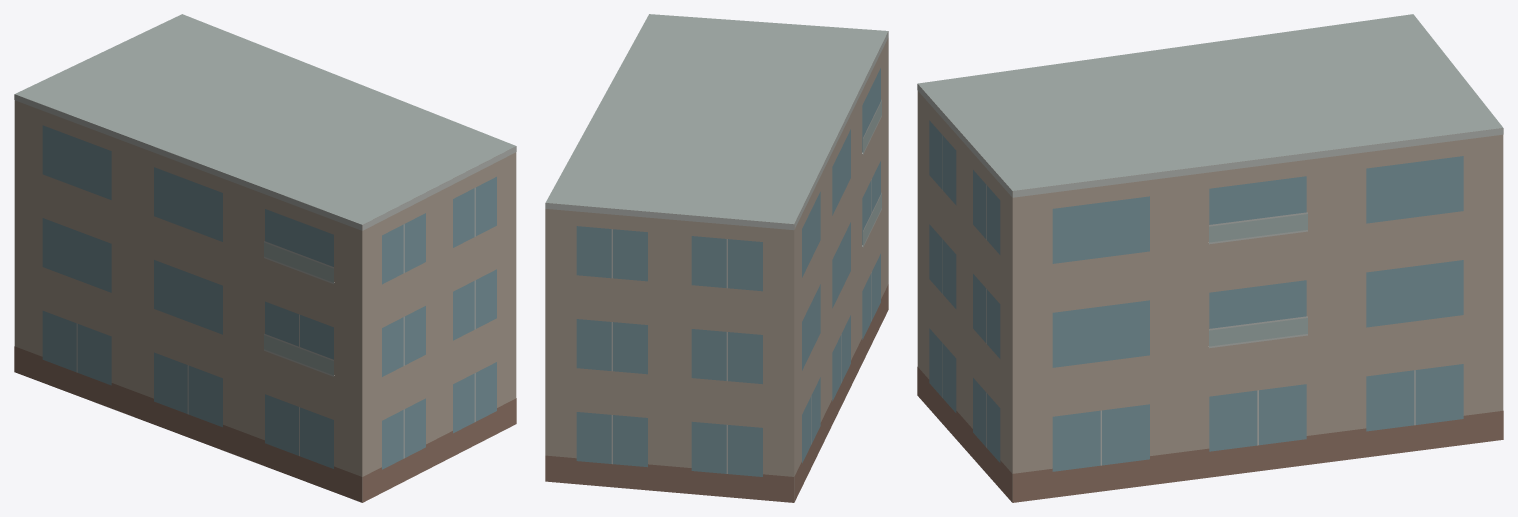
File: survey-upis-32604343.glb
The picture shows the model from 3 angles, left to right: view 1: azimuth 30°, elevation 25°; view 2: azimuth 150°, elevation 25°; view 3: azimuth 270°, elevation 25°; orthographic projection. The views are drawn at different scales.
Visible parts, largest first — view 1: survey-upis-32604343.tmp; view 2: survey-upis-32604343.tmp; view 3: survey-upis-32604343.tmp.
Part boxes in pixels (x1=…): survey-upis-32604343.tmp: x1=14, y1=14, x2=516, y2=502; survey-upis-32604343.tmp: x1=545, y1=14, x2=888, y2=502; survey-upis-32604343.tmp: x1=917, y1=14, x2=1503, y2=502.
Bounding box in the file's own units: 13.77 × 11.3 × 19.26.
